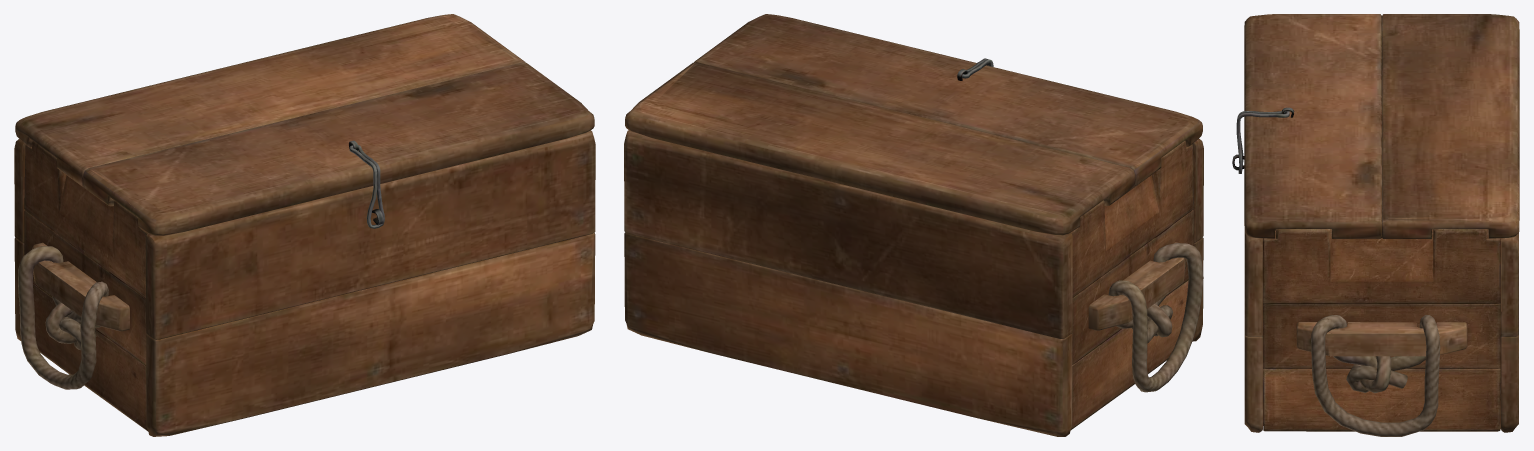
The model's file is wooden-chest.glb.
The picture shows the model from 3 angles, left to right: view 1: azimuth 30°, elevation 25°; view 2: azimuth 150°, elevation 25°; view 3: azimuth 270°, elevation 25°; orthographic projection. The views are drawn at different scales.
Parts seen in each view (by area): view 1: wooden-chest; view 2: wooden-chest; view 3: wooden-chest.
Part boxes in pixels (left/top/right/bottom): wooden-chest: left=14, top=14, right=595, bottom=436; wooden-chest: left=624, top=14, right=1203, bottom=436; wooden-chest: left=1232, top=14, right=1519, bottom=436.
Bounding box in the file's own units: 0.8253 × 0.3498 × 0.409.
Materials: 1 (1 with a texture image).
